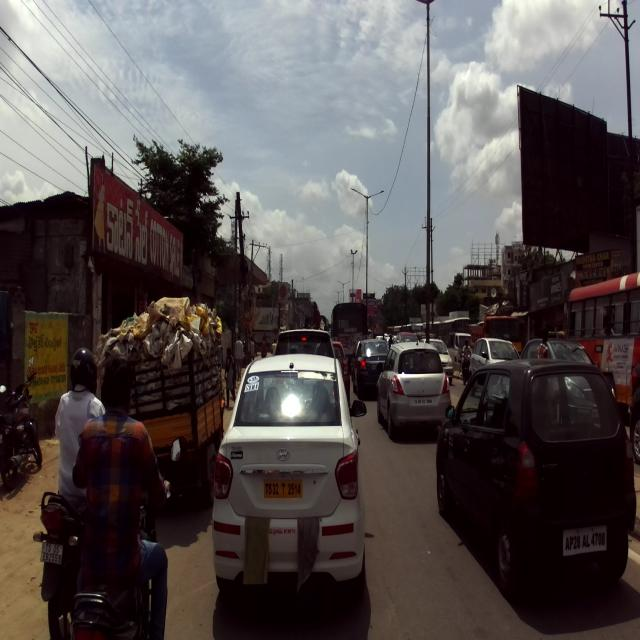Car_Hyundai: (212, 351, 366, 594)
Car_Maruti-Suzuki: (435, 356, 636, 597), (374, 340, 450, 439)
autorickshaw: (94, 295, 224, 513)
motorcycle_Hero: (32, 479, 87, 638)
motorcycle_Honda: (68, 434, 187, 639), (1, 354, 44, 491)
